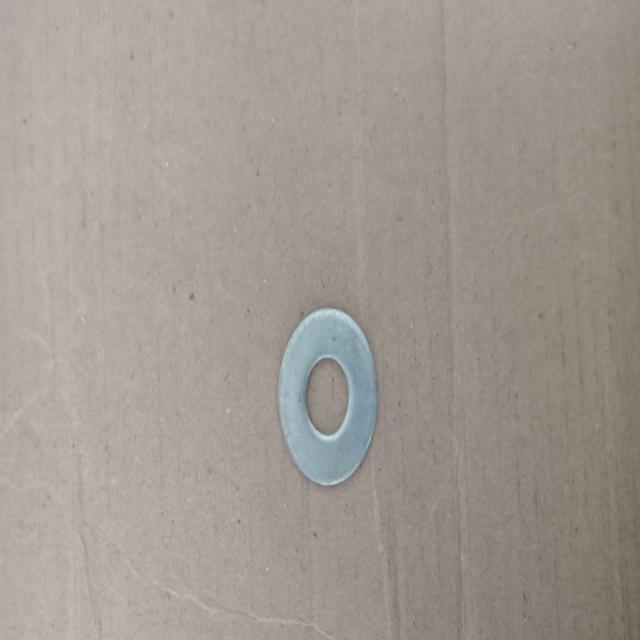washer: (278, 307, 380, 487)
